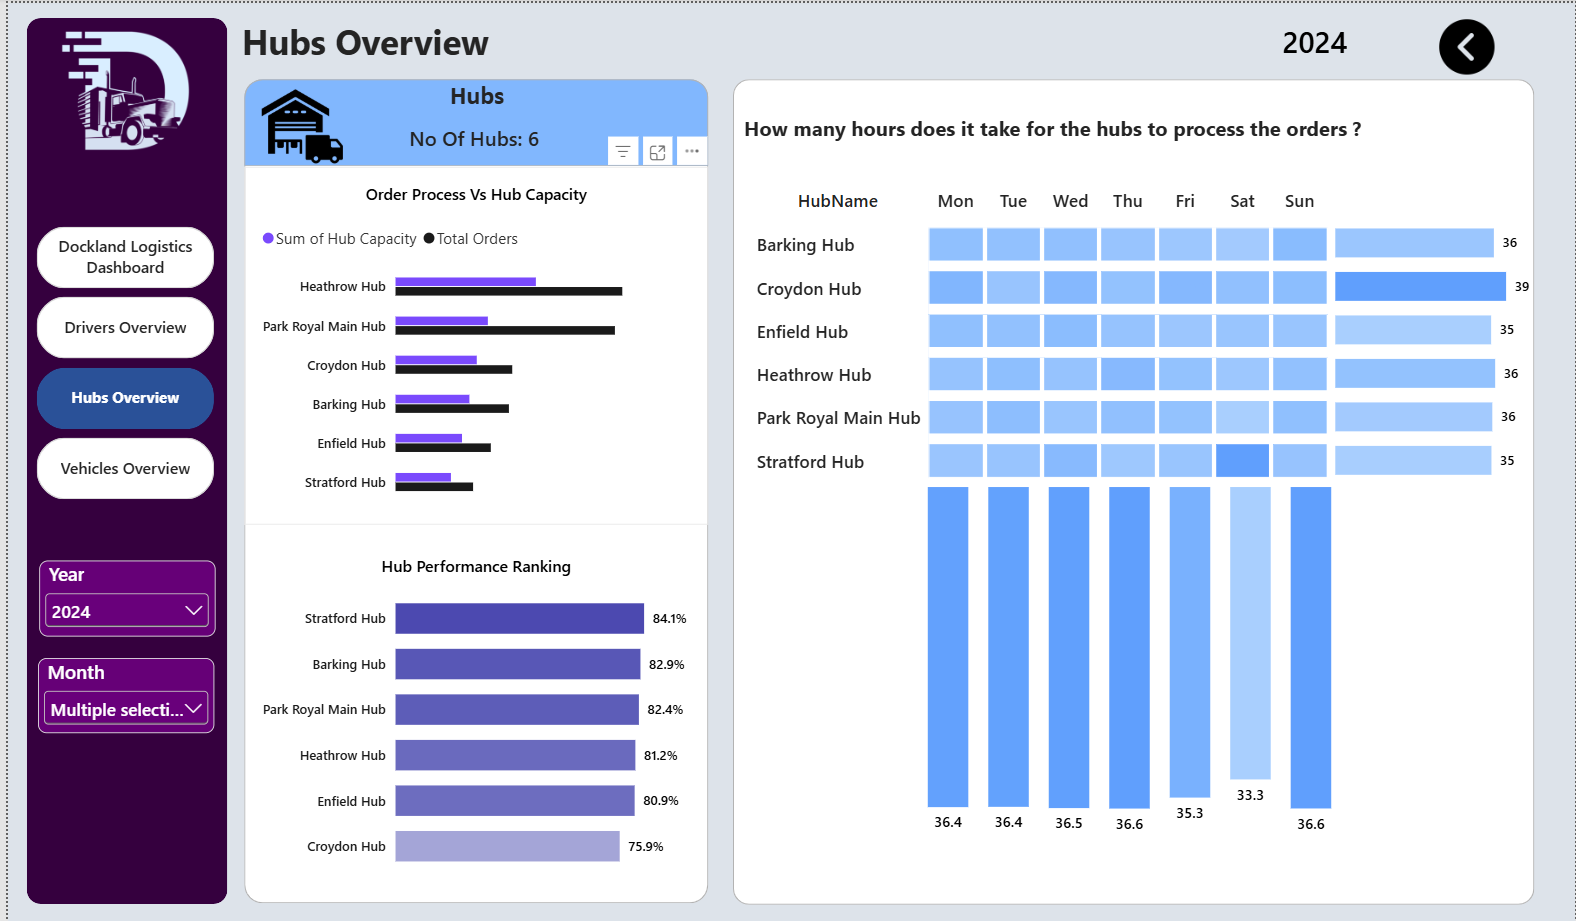

The page's visual inventory and layout, read from the dashboard file:
{"tool":"powerbi","page":{"name":"Hubs Overview","canvas":[1450,850],"ordinal":2},"visuals":[{"type":"shape","box":[17.1,14.3,185.7,820],"z":0},{"type":"textbox","box":[216.7,14.1,473.1,44.9],"z":1000},{"type":"slicer","fields":{"Values":["Date Table.Year"]},"box":[29,516.4,162.8,70],"z":2000},{"type":"slicer","fields":{"Values":["Date Table.Month"]},"box":[27.7,605.9,163.3,69.8],"z":3000},{"type":"image","box":[17.1,14.3,185.7,144.3],"z":4000},{"type":"cardVisual","fields":{"Data":["Orders.Year Month Title"]},"box":[1084.1,14.5,251.4,40],"z":5000},{"type":"shape","box":[670.5,71.1,741.6,764],"z":6000},{"type":"image","box":[1304.1,14.5,92.2,51.4],"z":7000},{"type":"shape","box":[218.7,71.1,429.4,762.7],"z":8000},{"type":"shape","box":[218.7,71.1,429.4,80.4],"z":9000},{"type":"textbox","box":[385.9,71.1,95.7,40],"z":10000},{"type":"cardVisual","fields":{"Data":["Hubs.No of Hubs"]},"box":[354.3,110.6,155.7,28.6],"z":11000},{"type":"clusteredBarChart","title":"Order Process Vs Hub Capacity","fields":{"Category":["Hubs.HubName"],"Y":["Sum(Hubs.Hub Capacity)","Orders.Total Orders"]},"box":[218.7,151.5,429.4,331.9],"z":12000},{"type":"barChart","title":"Hub Performance Ranking","fields":{"Category":["Hubs.HubName"],"Y":["Orders.On Time Delivery Rate"]},"box":[218.7,496.6,429.4,331.9],"z":13000},{"type":"image","box":[216,73.8,109.3,77.7],"z":14000},{"type":"pivotTable","fields":{"Rows":["Hubs.HubName"],"Columns":["Date Table.Day"],"Values":["Orders.Avg Delivery Time (Hrs)"]},"box":[670.5,151.5,571.7,310.9],"z":15000},{"type":"columnChart","fields":{"Category":["Date Table.Day"],"Y":["Orders.Avg Delivery Time (Hrs)"]},"box":[835.1,424.1,407,363.6],"z":16000},{"type":"barChart","fields":{"Category":["Hubs.HubName"],"Y":["Orders.Avg Delivery Time (Hrs)"]},"box":[1211.8,185.7,212.1,267.4],"z":17000},{"type":"cardVisual","fields":{"Data":["Hubs.Hub Title"]},"box":[648.1,90.9,638.9,48.7],"z":18000},{"type":"pageNavigator","box":[26.5,206.6,164.7,255.5],"z":19000}]}

Visuals, with their boxes in screenshot pixels (x1, y1, x2, y2), scaled from the page's 1450x850 canvas onto the 1576x921 screenshot:
shape: select_region(19, 15, 220, 904)
textbox: select_region(236, 15, 750, 64)
slicer - Date Table.Year: select_region(32, 560, 208, 635)
slicer - Date Table.Month: select_region(30, 657, 208, 732)
image: select_region(19, 15, 220, 172)
cardVisual - Orders.Year Month Title: select_region(1178, 16, 1452, 59)
shape: select_region(729, 77, 1535, 905)
image: select_region(1417, 16, 1518, 71)
shape: select_region(238, 77, 704, 903)
shape: select_region(238, 77, 704, 164)
textbox: select_region(419, 77, 523, 120)
cardVisual - Hubs.No of Hubs: select_region(385, 120, 554, 151)
"Order Process Vs Hub Capacity" clusteredBarChart: select_region(238, 164, 704, 524)
"Hub Performance Ranking" barChart: select_region(238, 538, 704, 898)
image: select_region(235, 80, 354, 164)
pivotTable - Hubs.HubName x Date Table.Day: select_region(729, 164, 1350, 501)
columnChart - Date Table.Day x Orders.Avg Delivery Time (Hrs): select_region(908, 460, 1350, 853)
barChart - Hubs.HubName x Orders.Avg Delivery Time (Hrs): select_region(1317, 201, 1548, 491)
cardVisual - Hubs.Hub Title: select_region(704, 98, 1399, 151)
pageNavigator: select_region(29, 224, 208, 501)
